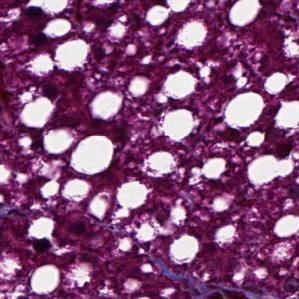steatosis: (65, 137, 116, 175), (225, 87, 264, 130), (159, 108, 198, 140)
